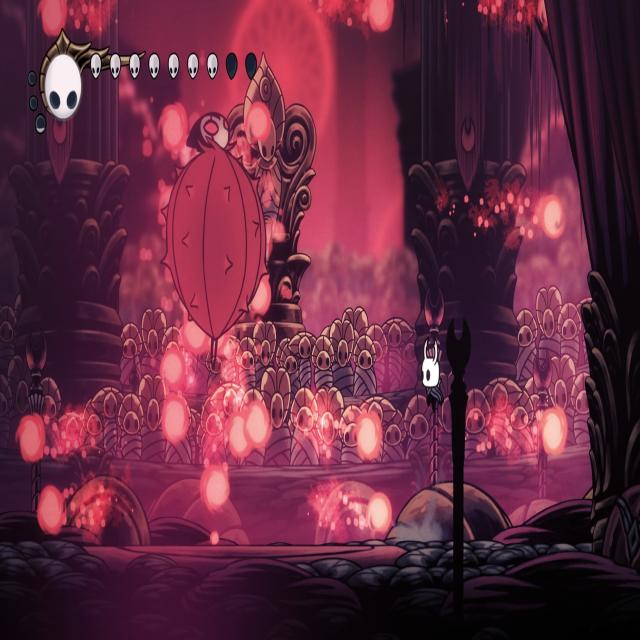Player: (417, 331, 446, 418)
Pufferfish: (159, 106, 277, 370)
Tiny Fireballs: (161, 105, 190, 157), (242, 401, 270, 452), (17, 415, 46, 464), (200, 464, 230, 511), (38, 488, 66, 538), (162, 397, 190, 445), (355, 412, 381, 461), (542, 408, 568, 456), (246, 101, 273, 146), (229, 413, 253, 459), (539, 194, 563, 238), (38, 0, 66, 37), (248, 273, 270, 315), (162, 349, 185, 389), (369, 494, 392, 532), (366, 0, 392, 33), (185, 315, 207, 353)
